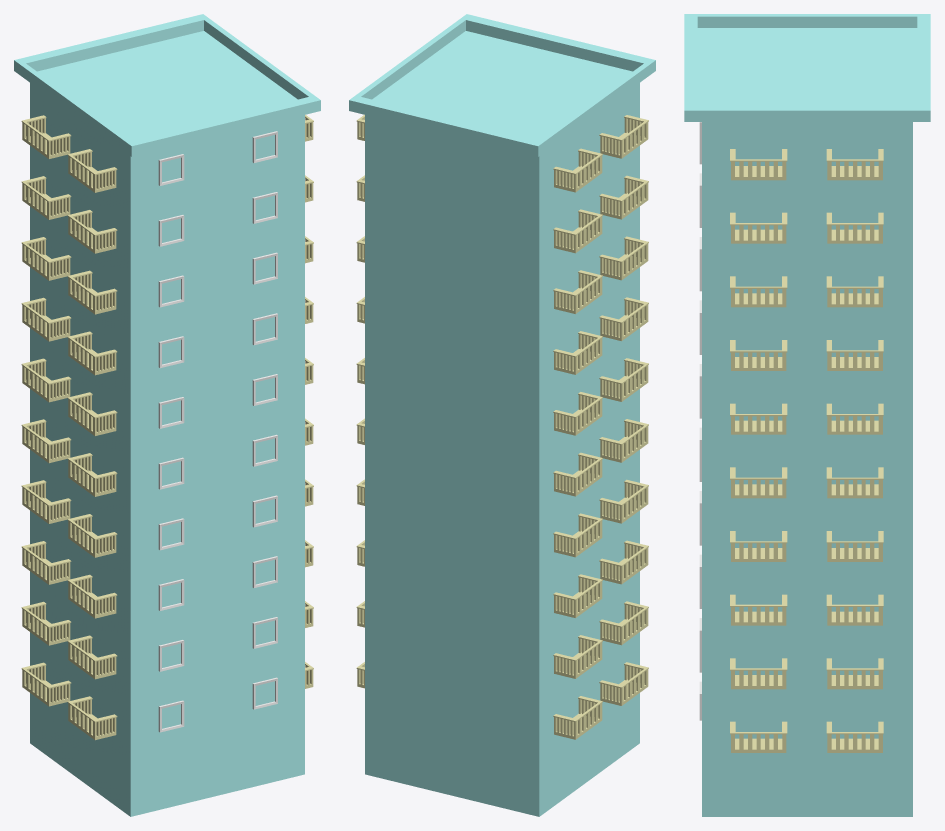
File: background_building4.fbx
The picture shows the model from 3 angles, left to right: view 1: azimuth 30°, elevation 25°; view 2: azimuth 150°, elevation 25°; view 3: azimuth 270°, elevation 25°; orthographic projection. The views are drawn at different scales.
Parts seen in each view (by area): view 1: building1; view 2: building1; view 3: building1.
Boxes of the visible parts, x1,y1,x2,y2 form: building1: [14, 14, 320, 816]; building1: [349, 14, 655, 816]; building1: [684, 14, 930, 816].
Bounding box in the file's own units: 751 × 2223 × 699.
